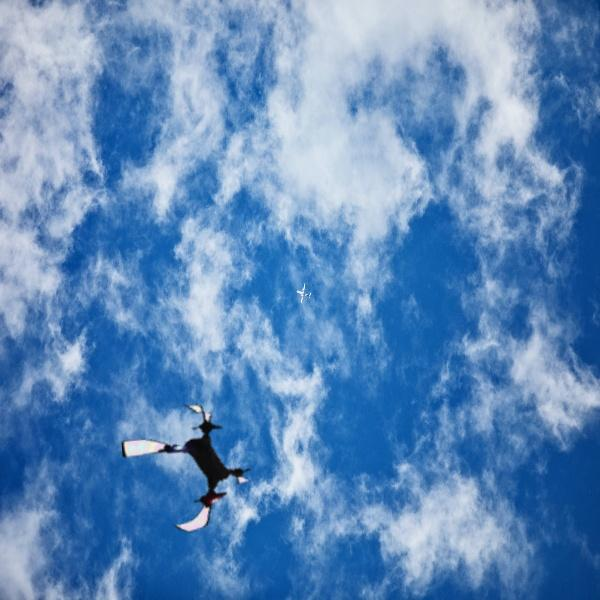drone: (125, 402, 260, 537)
